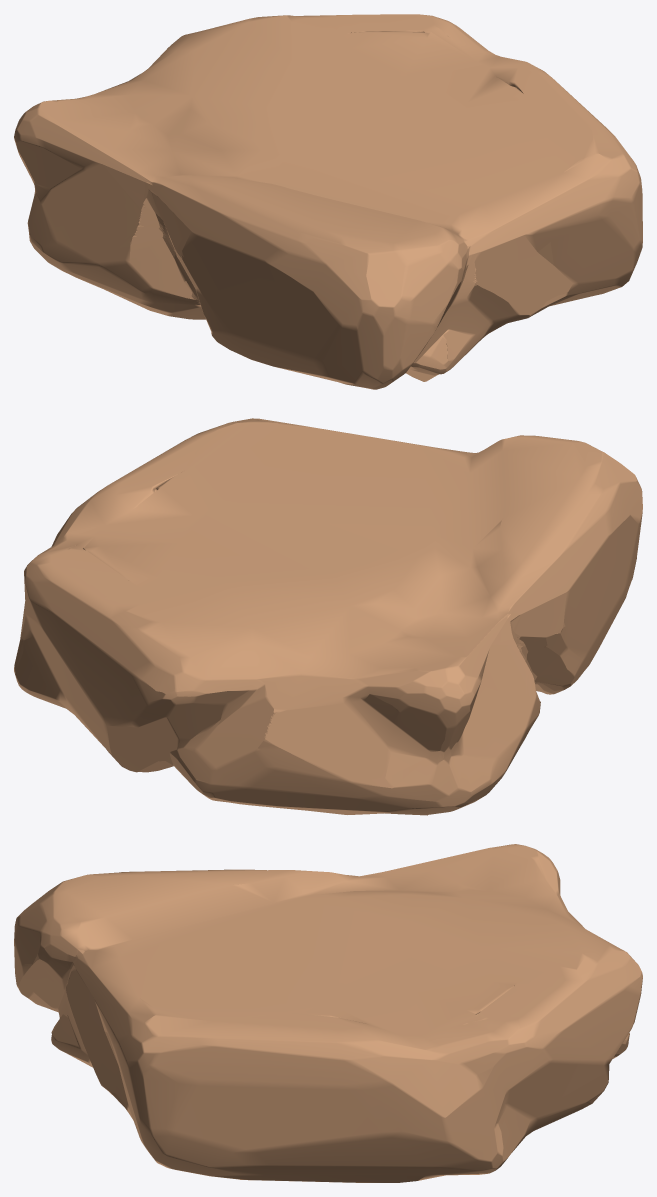
3 views of the same model, one above another, from view 1: azimuth 30°, elevation 25°; view 2: azimuth 150°, elevation 25°; view 3: azimuth 270°, elevation 25° (orthographic). The views are drawn at different scales.
Parts seen in each view (by area): view 1: Mesh_120_LOD0; view 2: Mesh_120_LOD0; view 3: Mesh_120_LOD0.
Part boxes in pixels (box(x1,y1,x2,y2)): Mesh_120_LOD0: box(14, 14, 642, 389); Mesh_120_LOD0: box(14, 418, 642, 815); Mesh_120_LOD0: box(14, 844, 642, 1182).
Size of what is drawn, in the model's own units: 1259 by 429 by 1540.
